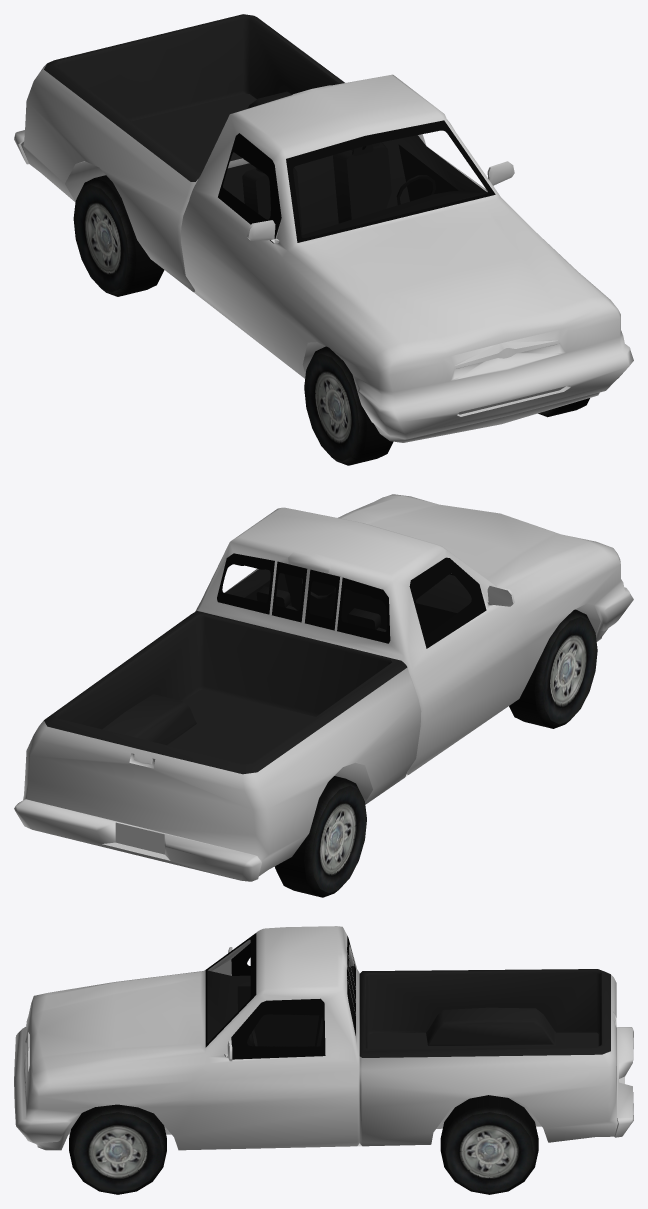
File: pickup.FBX
3 views of the same model, one above another, from view 1: azimuth 30°, elevation 25°; view 2: azimuth 150°, elevation 25°; view 3: azimuth 270°, elevation 25° (orthographic). The views are drawn at different scales.
Parts seen in each view (by area): view 1: FRBlaB, FRBlaBed, FRBlaI, FRBlaT02, FRBlaT01, FRBlaG; view 2: FRBlaB, FRBlaBed, FRBlaG, FRBlaT02, FRBlaT01, FRBlaI; view 3: FRBlaB, FRBlaBed, FRBlaT03, FRBlaT00, FRBlaI, FRBlaG.
Part boxes in pixels (box(x1,y1,x2,y2)): FRBlaB: box(14, 64, 633, 442); FRBlaBed: box(44, 14, 344, 181); FRBlaI: box(223, 135, 487, 237); FRBlaT02: box(73, 175, 164, 296); FRBlaT01: box(304, 346, 393, 465); FRBlaG: box(218, 120, 495, 243); FRBlaB: box(14, 494, 633, 881); FRBlaBed: box(44, 611, 407, 774); FRBlaG: box(217, 553, 486, 648); FRBlaT02: box(274, 776, 366, 897); FRBlaT01: box(509, 609, 597, 728); FRBlaI: box(225, 569, 471, 635); FRBlaB: box(14, 926, 633, 1150); FRBlaBed: box(359, 969, 610, 1057); FRBlaT03: box(440, 1095, 538, 1194); FRBlaT00: box(69, 1104, 166, 1194); FRBlaI: box(207, 966, 354, 1046); FRBlaG: box(205, 933, 355, 1059).
Bounding box in the file's own units: 73.64 × 64.23 × 184.
